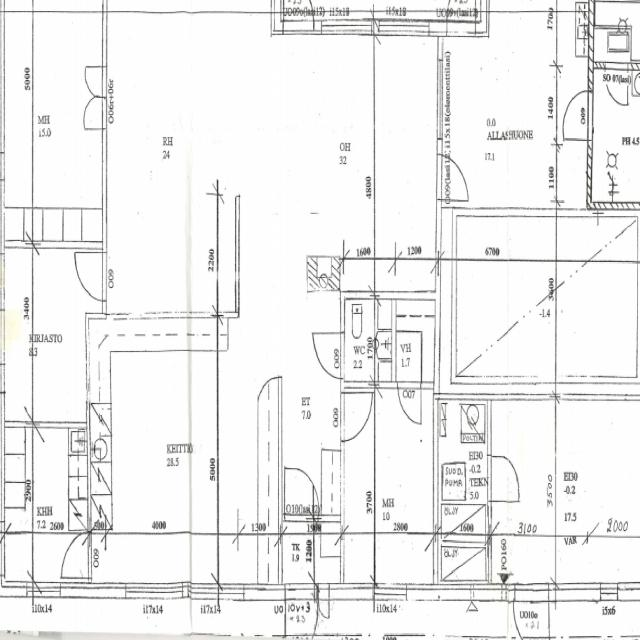door: (514, 584, 549, 640), (285, 461, 317, 522), (285, 584, 317, 640), (557, 90, 592, 139), (341, 393, 374, 440), (73, 253, 106, 300), (435, 154, 468, 200), (487, 456, 519, 500), (313, 333, 345, 377), (59, 534, 91, 577), (397, 382, 421, 426), (284, 0, 314, 35), (446, 0, 476, 35), (605, 63, 628, 106), (82, 66, 106, 98), (82, 98, 106, 129), (317, 584, 329, 620), (0, 520, 4, 575)
